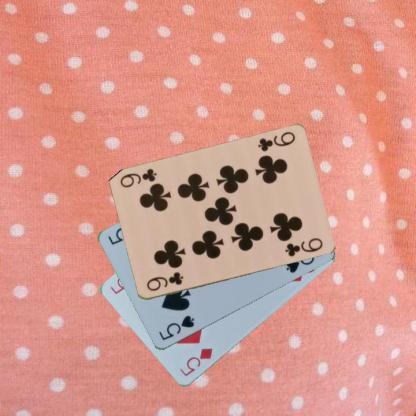5d: (177, 345, 214, 378)
5s: (156, 313, 196, 342)
9c: (254, 129, 297, 153), (144, 269, 185, 293)
